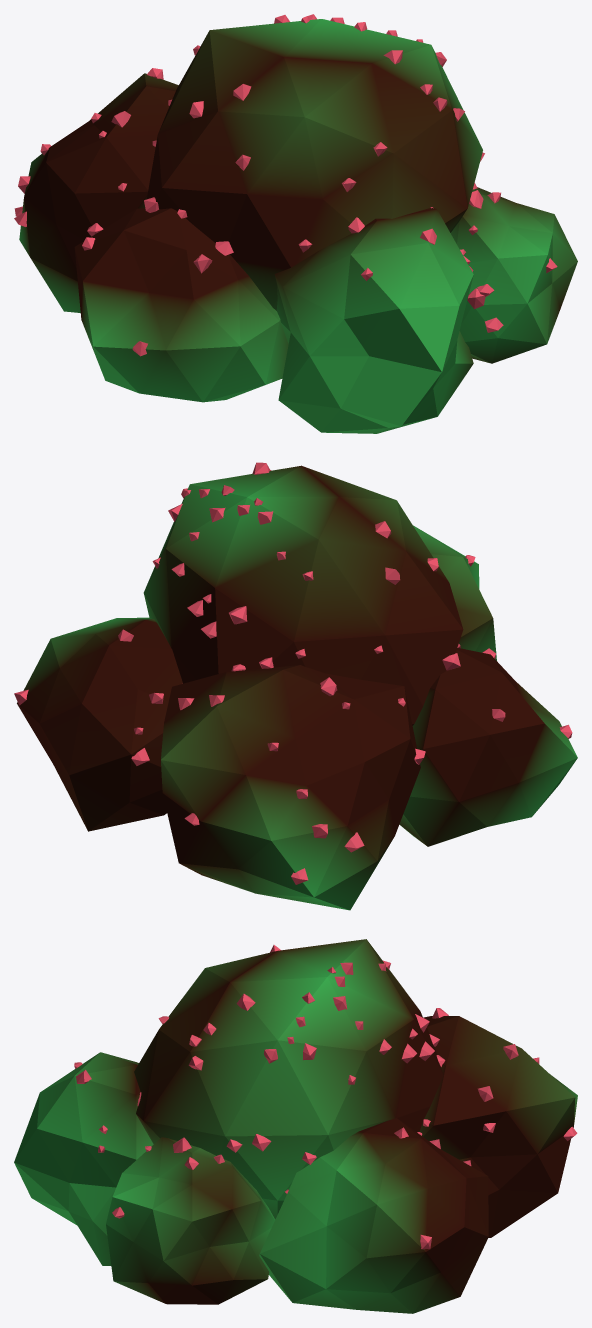
Rendered from bush2.fbx.
The picture shows the model from 3 angles, top to bottom: view 1: azimuth 30°, elevation 25°; view 2: azimuth 150°, elevation 25°; view 3: azimuth 270°, elevation 25°; orthographic projection. The views are drawn at different scales.
Visible parts, largest first — view 1: Icosphere.010; view 2: Icosphere.010; view 3: Icosphere.010.
Boxes of the visible parts, x1=… form: Icosphere.010: x1=19, y1=19, x2=577, y2=433; Icosphere.010: x1=17, y1=465, x2=577, y2=910; Icosphere.010: x1=14, y1=939, x2=577, y2=1313.
Size of the model in its own units: 287 by 202 by 329.
